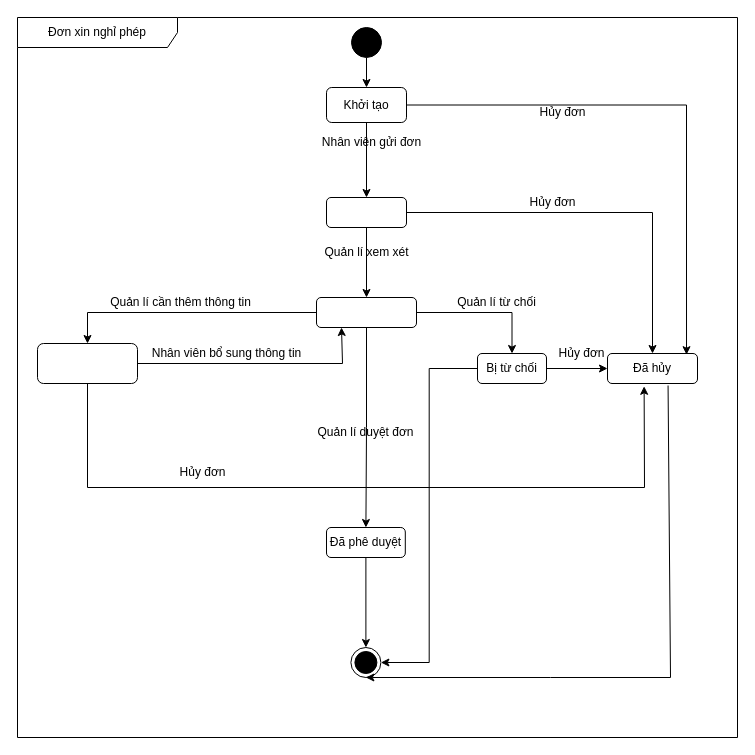
Some shapes in this 755 by 755 pixel diagram are drawn without their labels. Here are the shapes that lost their labels. From the top down, the box of each, then its label:
(326, 196, 406, 228): Đã gửi
(316, 296, 416, 328): Đang xem xét
(36, 342, 138, 384): Yêu cầu bổ sung thông tin
